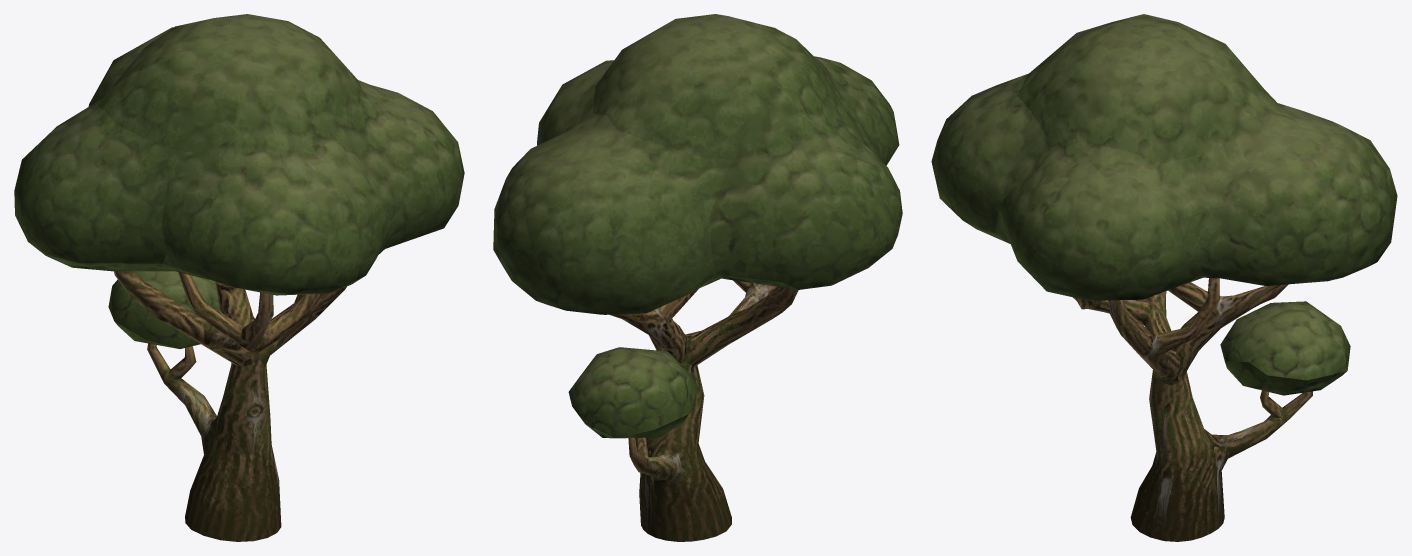
File: odd-little-tree-37524b.glb
3 renders of one model, left to right at view 1: azimuth 30°, elevation 25°; view 2: azimuth 150°, elevation 25°; view 3: azimuth 270°, elevation 25°, orthographic. The views are drawn at different scales.
Parts seen in each view (by area): view 1: Trunk_low_01 - Default_0; view 2: Trunk_low_01 - Default_0; view 3: Trunk_low_01 - Default_0.
Boxes of the visible parts, box(x1,y1,x2,y2) form: Trunk_low_01 - Default_0: box(14, 14, 464, 541); Trunk_low_01 - Default_0: box(493, 14, 902, 541); Trunk_low_01 - Default_0: box(931, 14, 1397, 541).
Bounding box in the file's own units: 2.7 × 3.4 × 2.97.
1 material, 1 textured.
